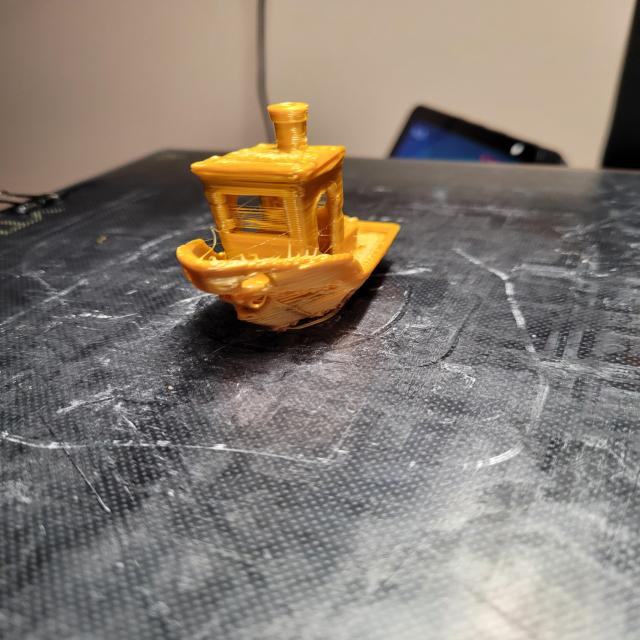Stringing: (226, 203, 289, 233)
